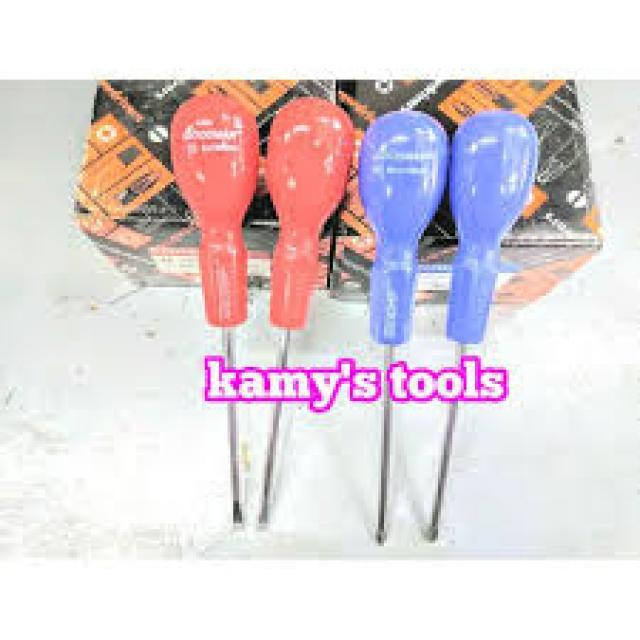screwdriver: (52, 274, 574, 346)
